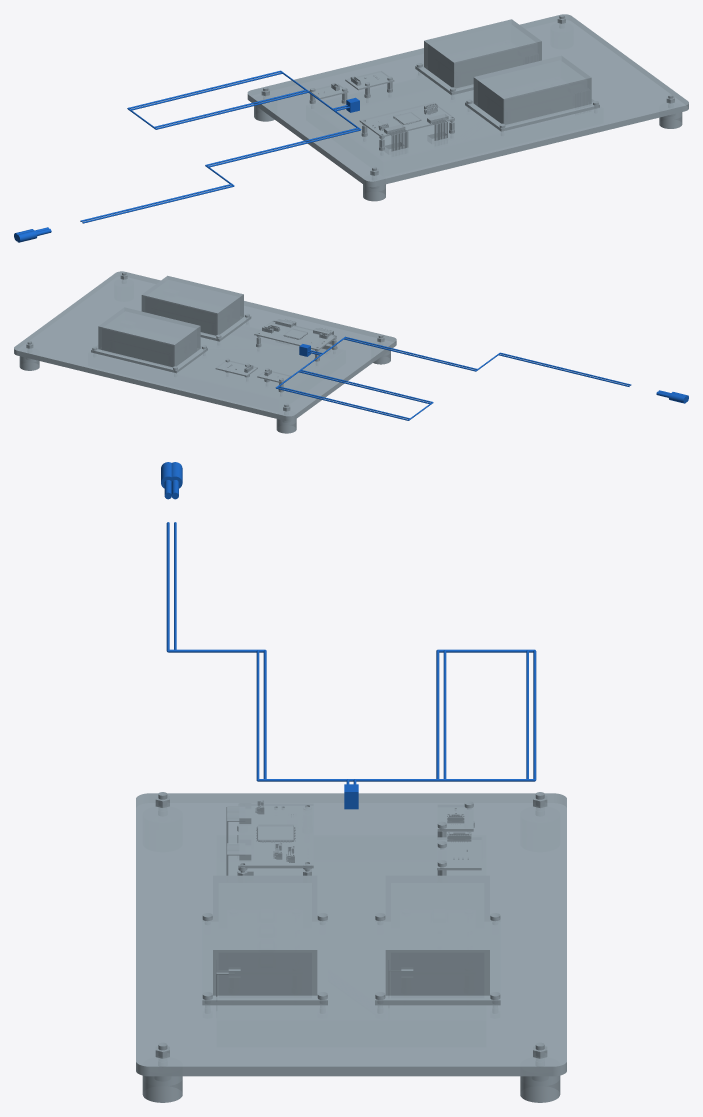
Rendered from HR30_E1_controls_fixture_complete_logic_wiring_candidate.glb.
The picture shows the model from 3 angles, top to bottom: view 1: azimuth 30°, elevation 25°; view 2: azimuth 150°, elevation 25°; view 3: azimuth 270°, elevation 25°; orthographic projection. The views are drawn at different scales.
Parts seen in each view (by area): view 1: E1_FIXTURE_AND_CARRIER_HARNESSES, J1_LOGIC_POWER_CABLE; view 2: E1_FIXTURE_AND_CARRIER_HARNESSES, J1_LOGIC_POWER_CABLE; view 3: E1_FIXTURE_AND_CARRIER_HARNESSES, J1_LOGIC_POWER_CABLE.
Part boxes in pixels (x1=…): E1_FIXTURE_AND_CARRIER_HARNESSES: x1=247, y1=14, x2=688, y2=201; J1_LOGIC_POWER_CABLE: x1=14, y1=70, x2=361, y2=242; E1_FIXTURE_AND_CARRIER_HARNESSES: x1=14, y1=271, x2=396, y2=433; J1_LOGIC_POWER_CABLE: x1=275, y1=336, x2=688, y2=420; E1_FIXTURE_AND_CARRIER_HARNESSES: x1=136, y1=792, x2=566, y2=1102; J1_LOGIC_POWER_CABLE: x1=161, y1=462, x2=536, y2=809.
Bounding box in the file's own units: 740 × 55 × 240.
